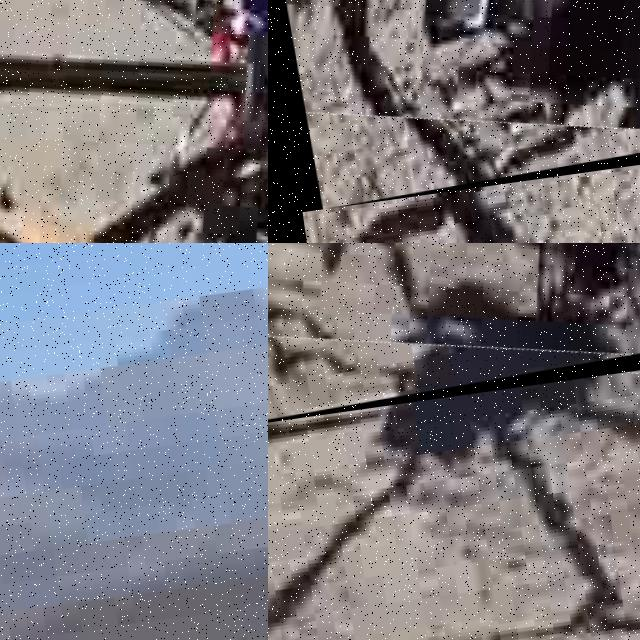drone: (268, 0, 640, 212), (268, 243, 640, 434), (0, 0, 268, 243)
